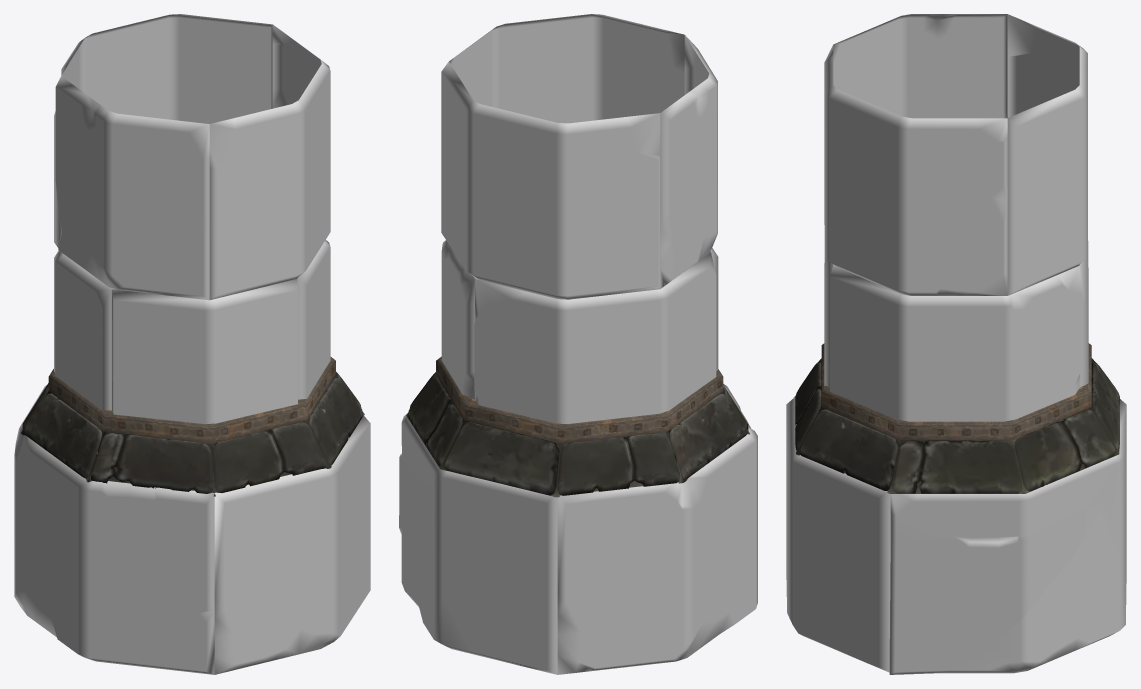
The picture shows the model from 3 angles, left to right: view 1: azimuth 30°, elevation 25°; view 2: azimuth 150°, elevation 25°; view 3: azimuth 270°, elevation 25°; orthographic projection.
Parts seen in each view (by area): view 1: SM_Greathall_Corner_01_LOD0; view 2: SM_Greathall_Corner_01_LOD0; view 3: SM_Greathall_Corner_01_LOD0.
Part boxes in pixels (bbox=[...]): SM_Greathall_Corner_01_LOD0: bbox=[14, 14, 370, 674]; SM_Greathall_Corner_01_LOD0: bbox=[399, 14, 757, 674]; SM_Greathall_Corner_01_LOD0: bbox=[786, 14, 1126, 674].
Bounding box in the file's own units: 2.87 × 5.01 × 2.86.
Materials: 2 (1 with a texture image).
